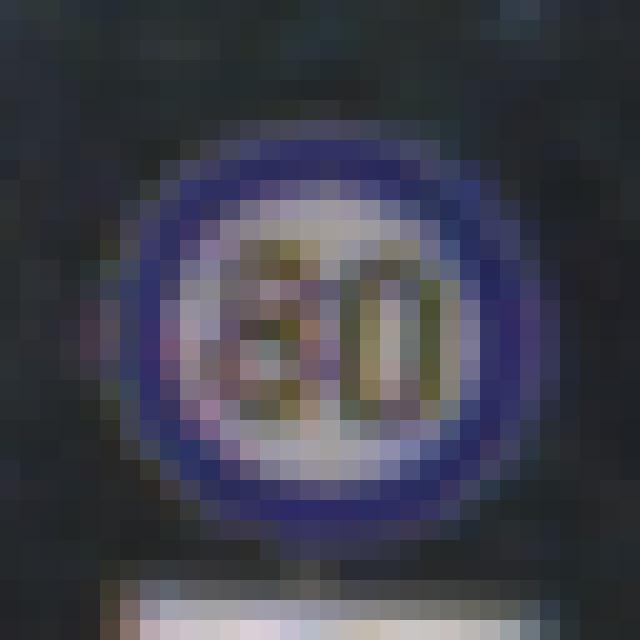SPEED-LIMIT-80: (102, 133, 512, 536)
